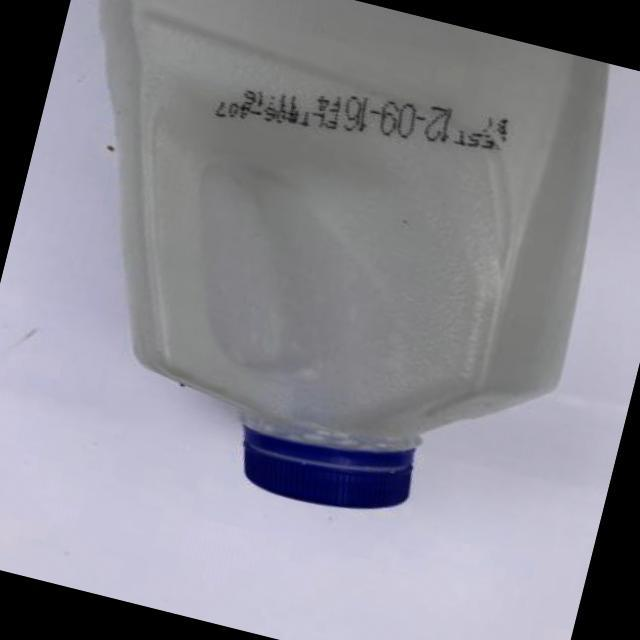HDPE Plastic: (92, 0, 613, 512)
